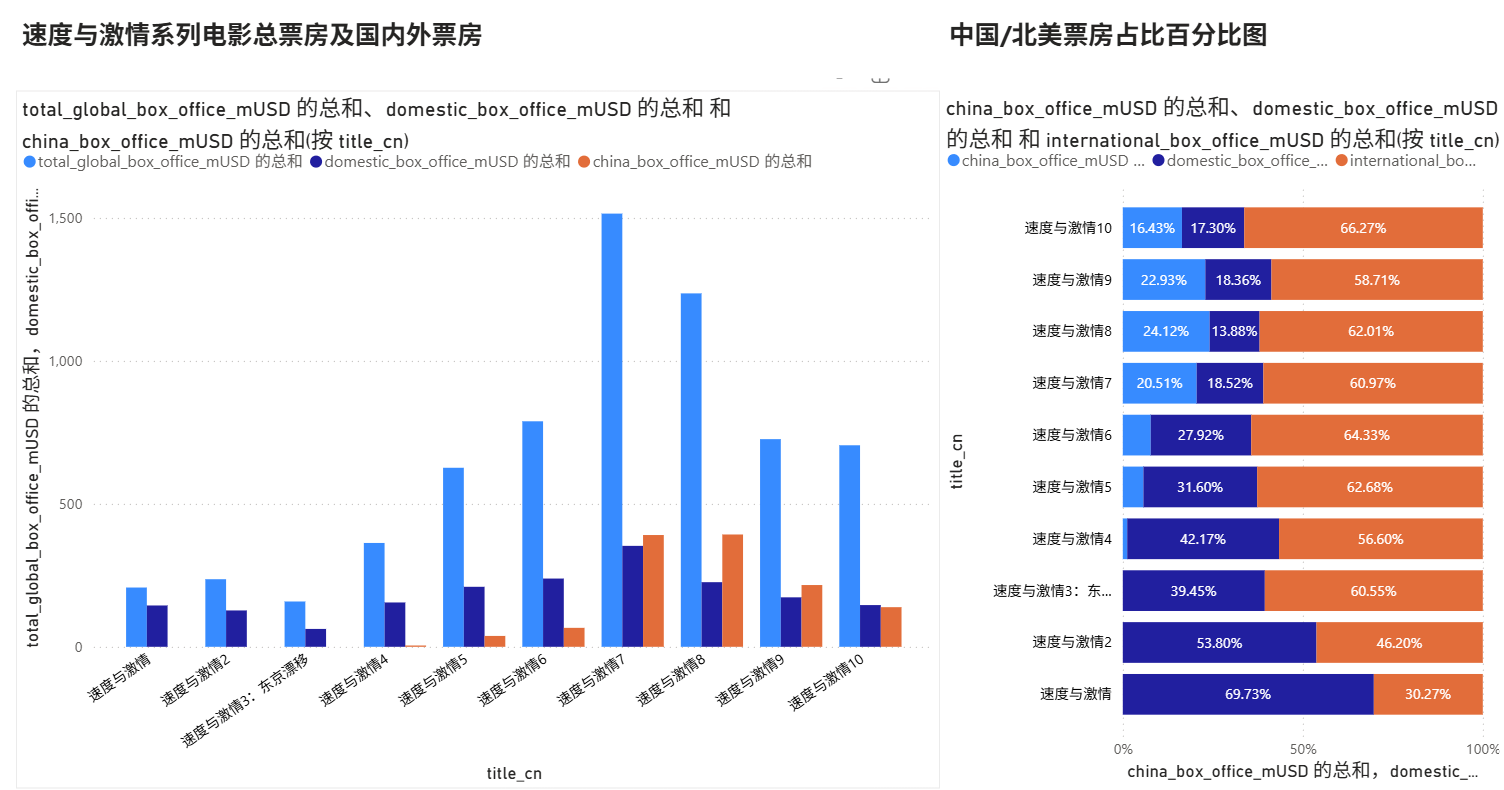

Layout of this report page (visuals, bound fields, positions):
{"tool":"powerbi","page":{"name":"第 1 页","canvas":[1280,720],"ordinal":0},"visuals":[{"type":"clusteredColumnChart","fields":{"Category":["fast dim_movies.title_cn"],"Y":["Sum(fast fact_box_office.total_global_box_office_mUSD)","Sum(fast fact_box_office.domestic_box_office_mUSD)","Sum(fast fact_box_office.china_box_office_mUSD)"]},"box":[37.5,113.8,770,581.2],"z":0},{"type":"textbox","box":[37.8,44.4,1242.2,58.9],"z":1000},{"type":"hundredPercentStackedBarChart","fields":{"Category":["fast dim_movies.title_cn"],"Y":["Sum(fast fact_box_office.china_box_office_mUSD)","Sum(fast fact_box_office.domestic_box_office_mUSD)","Sum(fast fact_box_office.international_box_office_mUSD)"]},"box":[808,113,472,581],"z":2000}]}

Visuals, with their boxes on the page's 1280x720 design canvas (x1, y1, x2, y2). These are canvas units, not pixel positions in the 1504x790 screenshot, which may show the page scaled, cropped or inside an application window:
clusteredColumnChart - fast dim_movies.title_cn x Sum(fast fact_box_office.total_global_box_office_mUSD): bbox=[38, 114, 808, 695]
textbox: bbox=[38, 44, 1280, 103]
hundredPercentStackedBarChart - fast dim_movies.title_cn x Sum(fast fact_box_office.china_box_office_mUSD): bbox=[808, 113, 1280, 694]
